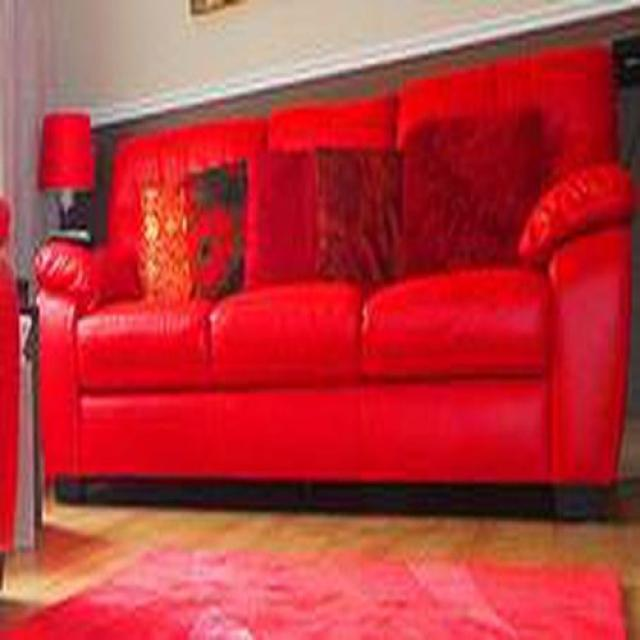sofa: (24, 3, 640, 527)
